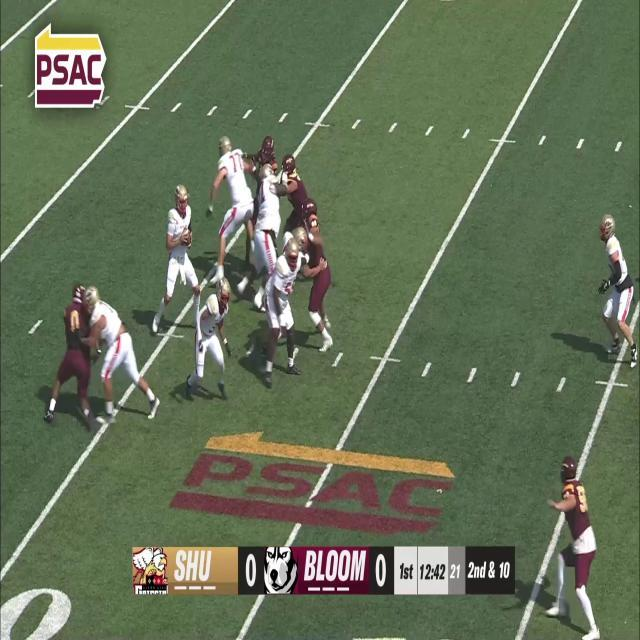football: (182, 225, 193, 248)
